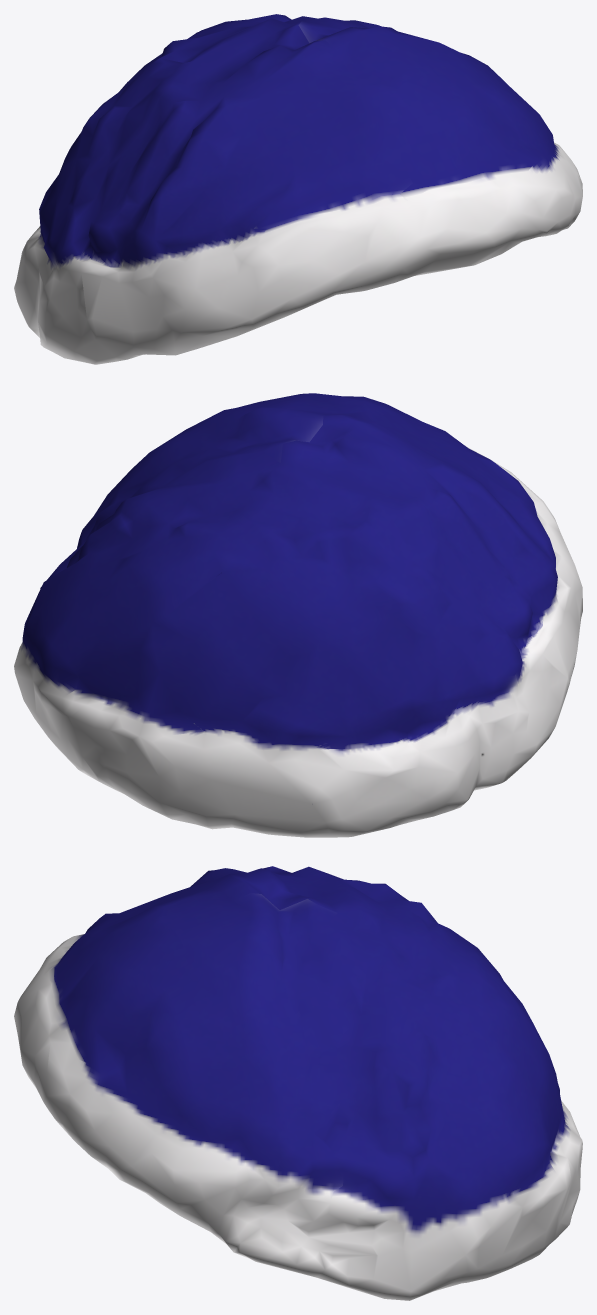
The model's file is knit dallas.glb.
3 views of the same model, one above another, from view 1: azimuth 30°, elevation 25°; view 2: azimuth 150°, elevation 25°; view 3: azimuth 270°, elevation 25° (orthographic). The views are drawn at different scales.
Parts seen in each view (by area): view 1: hat_knit_dallas.001; view 2: hat_knit_dallas.001; view 3: hat_knit_dallas.001.
Boxes of the visible parts, x1,y1,x2,y2 form: hat_knit_dallas.001: (14, 14, 582, 364); hat_knit_dallas.001: (14, 393, 582, 837); hat_knit_dallas.001: (14, 866, 582, 1300).
Bounding box in the file's own units: 0.3703 × 0.2295 × 0.3549.
Materials: 1 (1 with a texture image).
